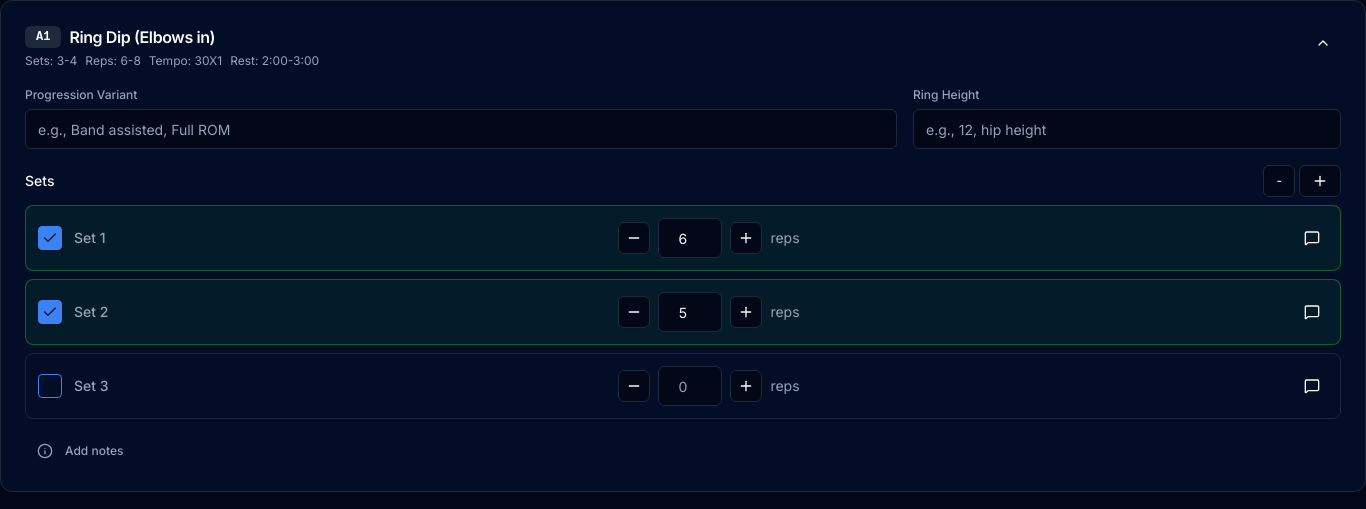
ExerciseCard › shows collapsed summary when collapsed
This screenshot has width=1366, height=509.
Click the button without text in the row of "2:00-3:00" at (1323, 43), box [1305,25,1341,61]
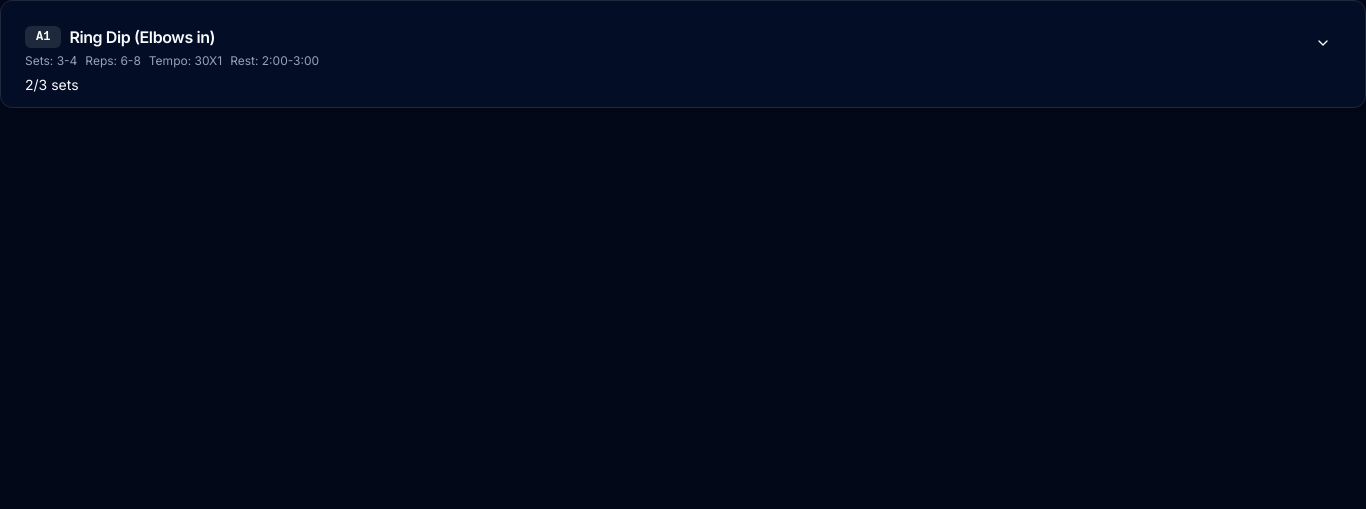
Check: the text "2/3 sets" is shown, box [25,75,79,95]
